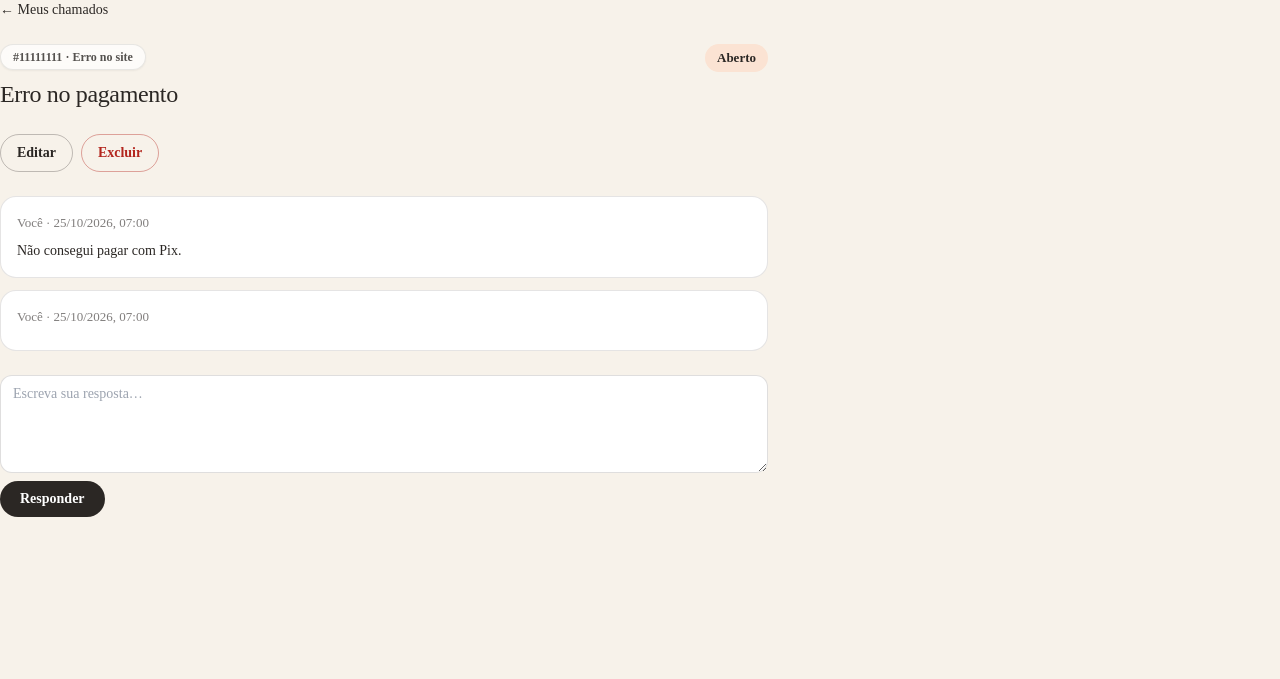
Test case: meus chamados: editar e excluir › dono vê Editar/Excluir e edita assunto/descrição
Step 1. Click the button with test id "ticket-edit" → (36,153), box 0,134 -> 73,172
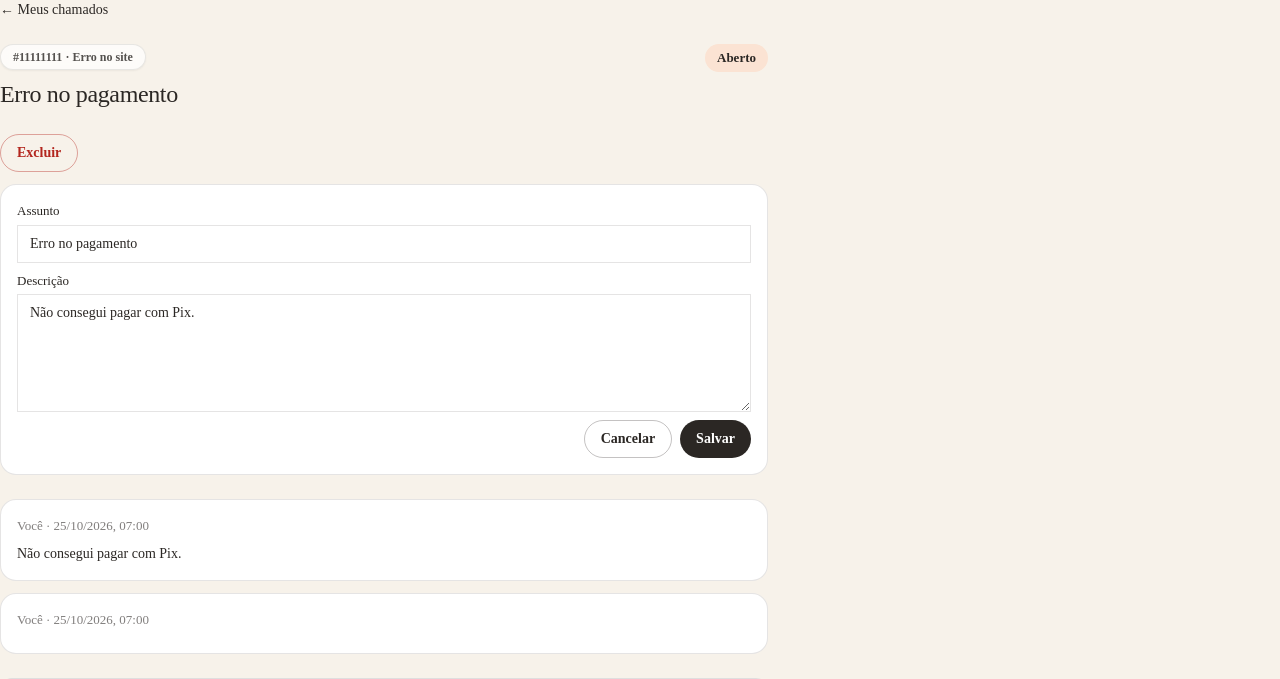
Result: the form with test id "ticket-edit-form" is shown at 0,184 -> 768,475
Step 2. Click the button with test id "ticket-owner-delete" → (39,153), box 0,134 -> 78,172
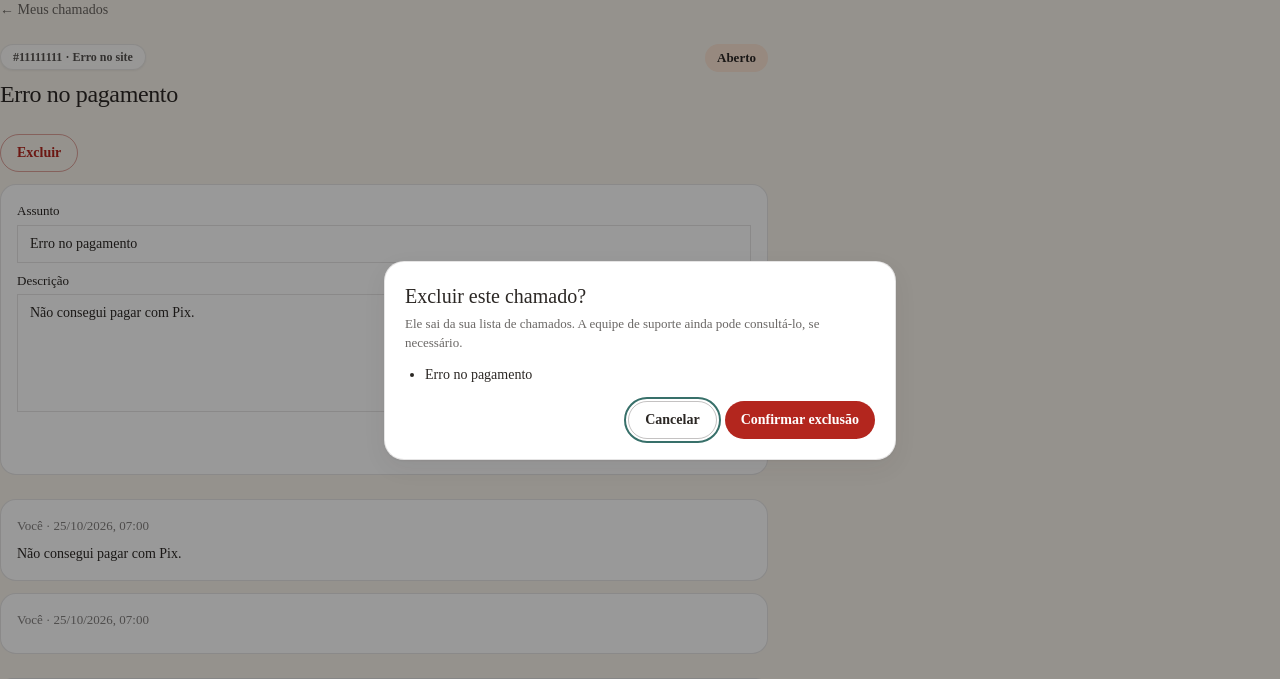
Result: the heading "Excluir este chamado?" is shown at 405,284 -> 586,306
